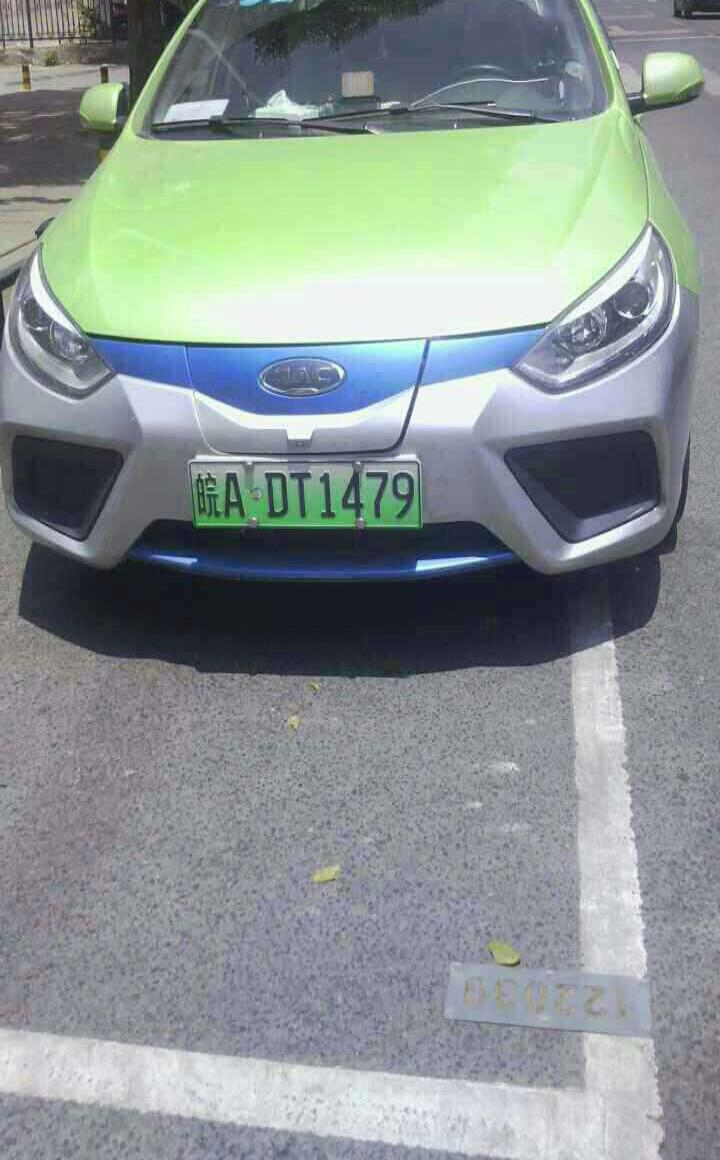car_id: (190, 461, 418, 527)
